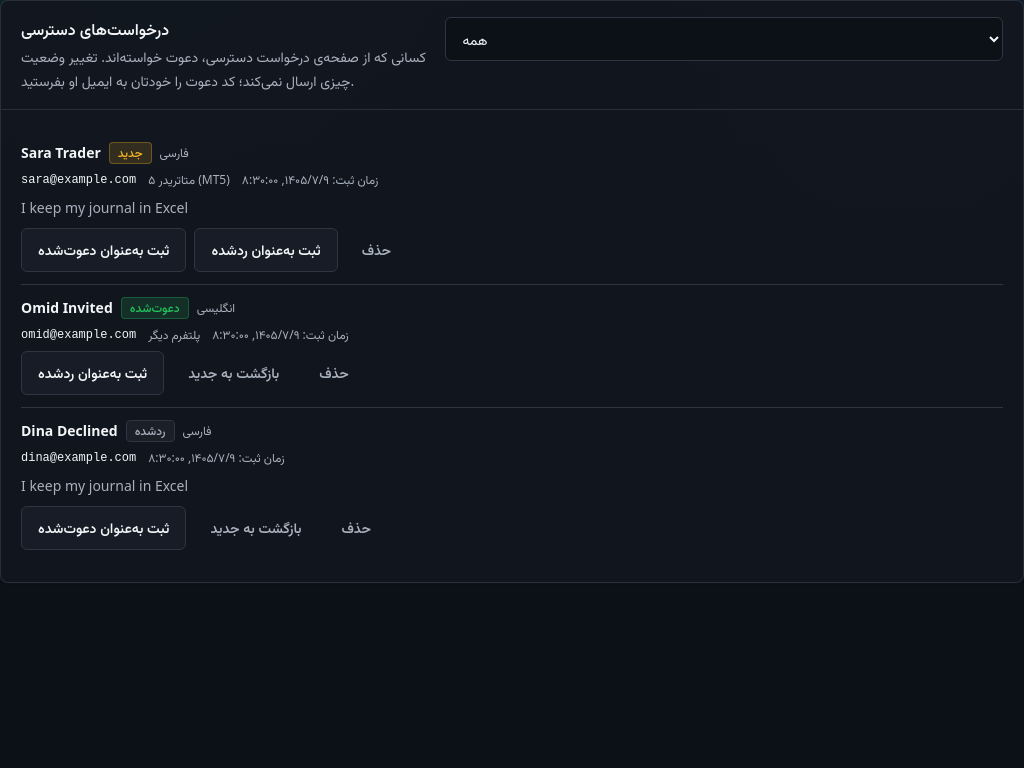
Test case: AccessRequestsPanel error text › never shows the server's English text on the Persian page: a failed decision says so in Persian
Expected: the text "Sara Trader" is shown, [21, 143, 101, 162]
Click the button "ثبت به‌عنوان ردشده" below "Sara Trader". click: click(266, 250)
box: [194, 228, 338, 272]
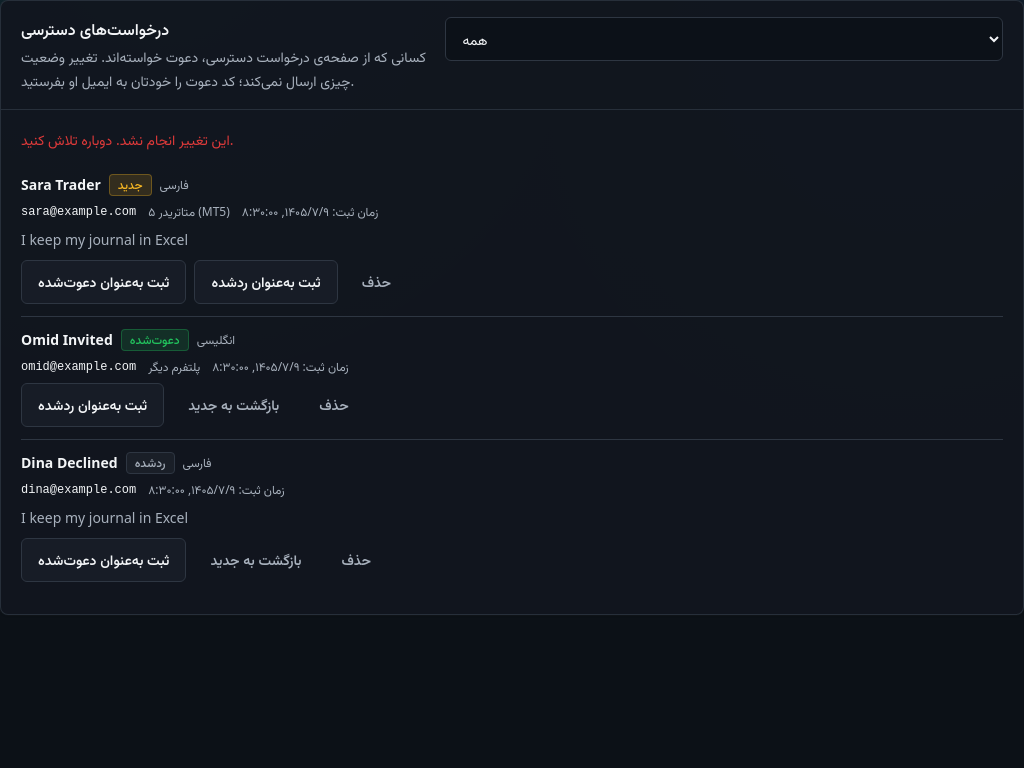
Expected: the text "این تغییر انجام نشد. دوباره تلاش کنید." is shown, [21, 130, 233, 149]
